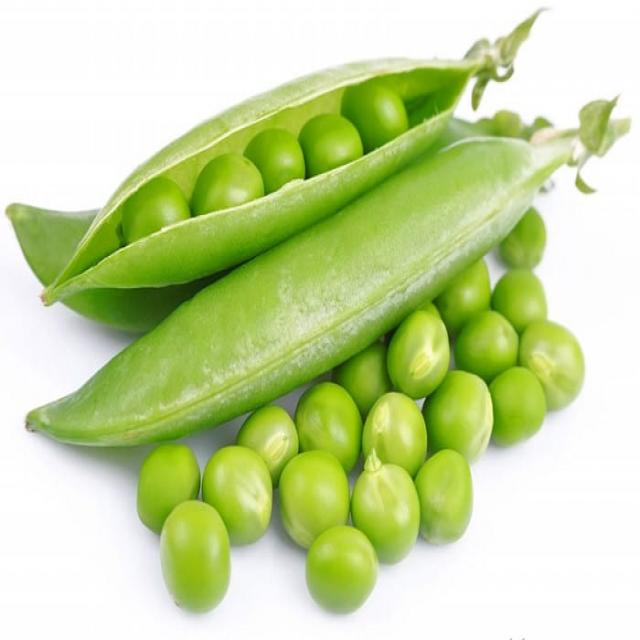pea: (366, 270, 563, 568), (132, 387, 370, 621), (116, 89, 405, 252)
